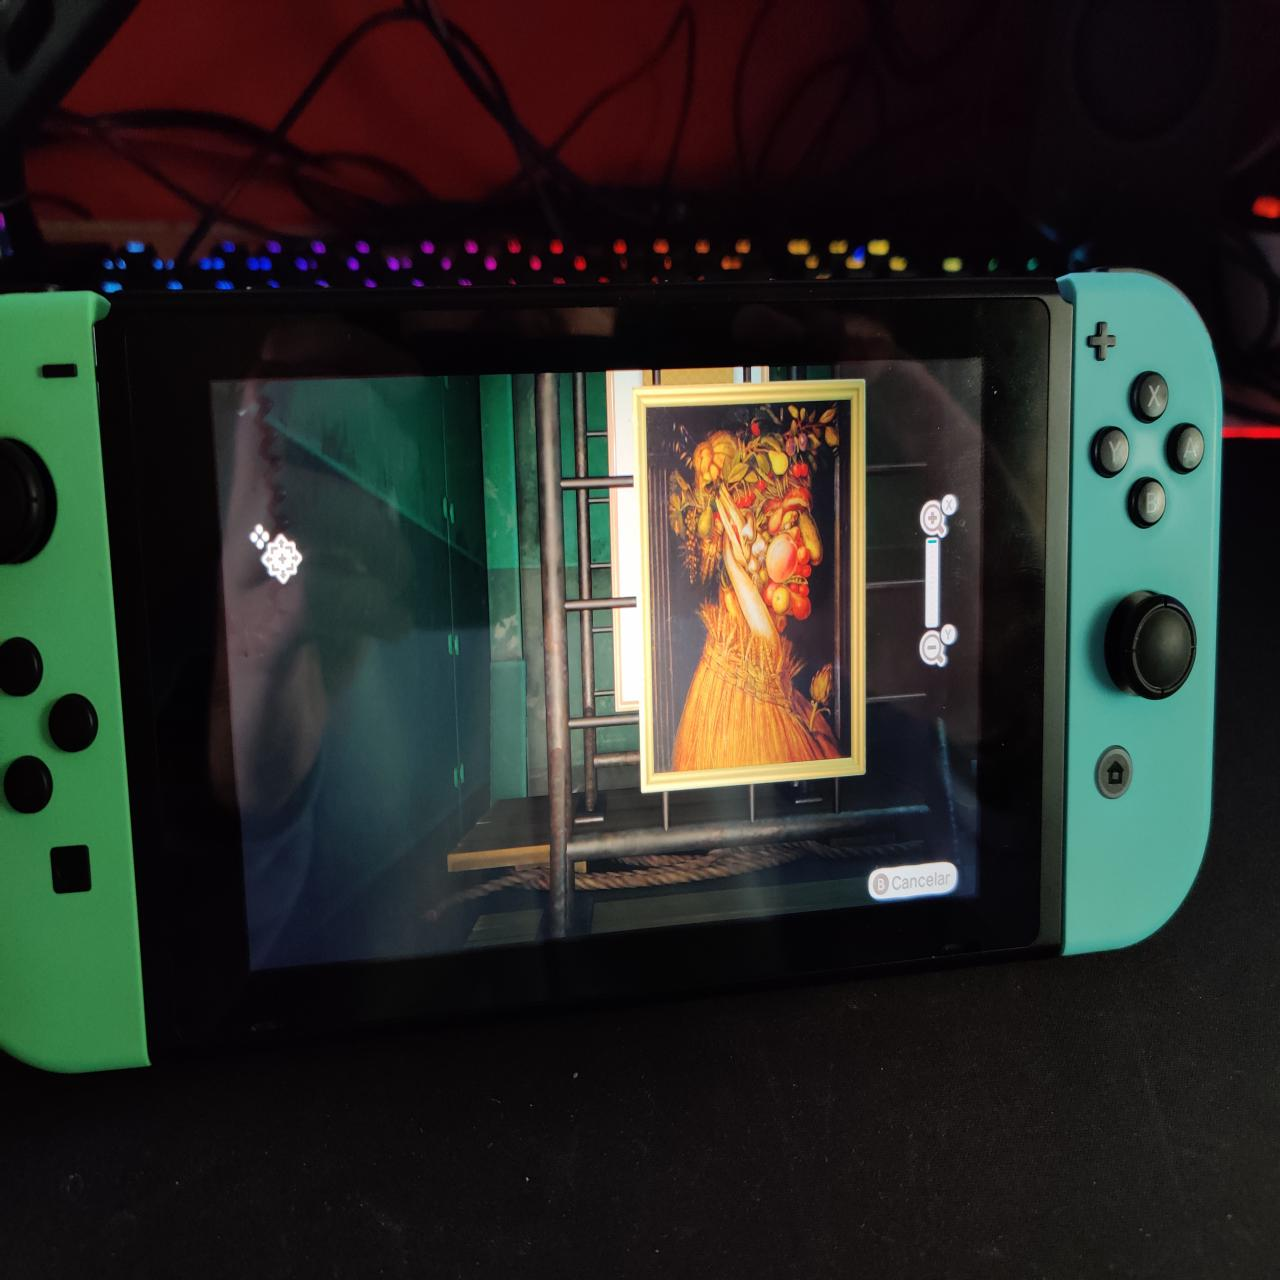Summer: (647, 411, 858, 772)
